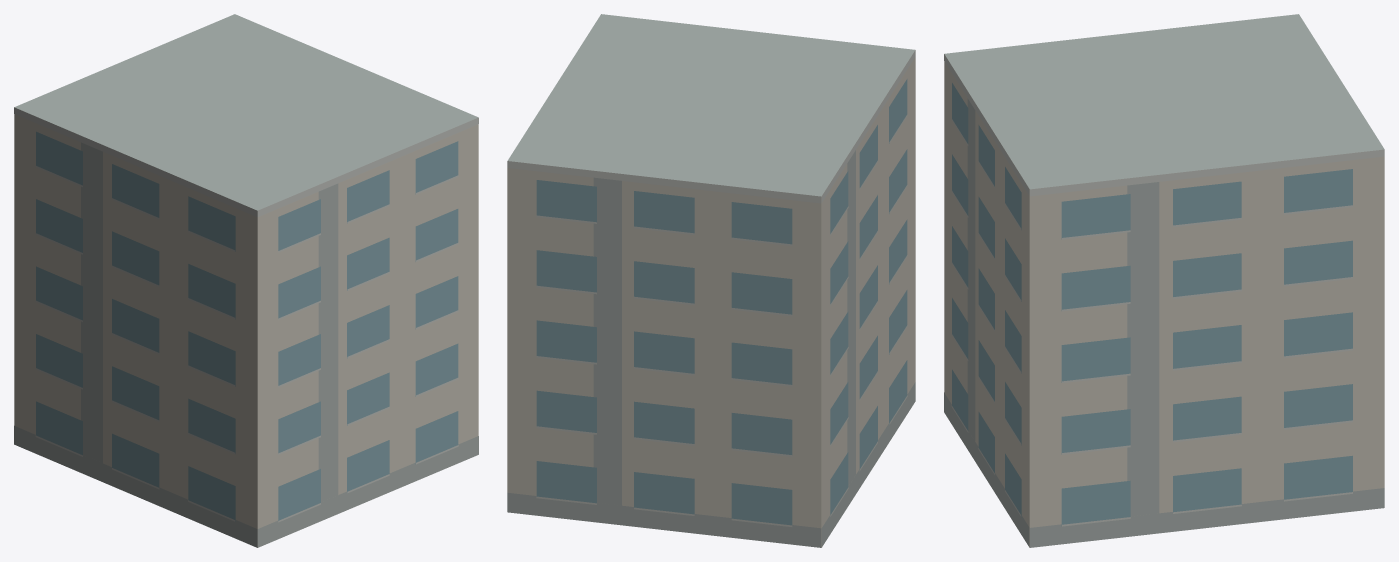
The model's file is survey-upis-32994564.glb.
3 renders of one model, left to right at view 1: azimuth 30°, elevation 25°; view 2: azimuth 150°, elevation 25°; view 3: azimuth 270°, elevation 25°, orthographic. The views are drawn at different scales.
Parts seen in each view (by area): view 1: survey-upis-32994564.tmp; view 2: survey-upis-32994564.tmp; view 3: survey-upis-32994564.tmp.
Part boxes in pixels (box(x1,y1,x2,y2)): survey-upis-32994564.tmp: box(14, 14, 478, 547); survey-upis-32994564.tmp: box(507, 14, 915, 547); survey-upis-32994564.tmp: box(944, 14, 1384, 547).
Bounding box in the file's own units: 12.97 × 12.35 × 13.77.
